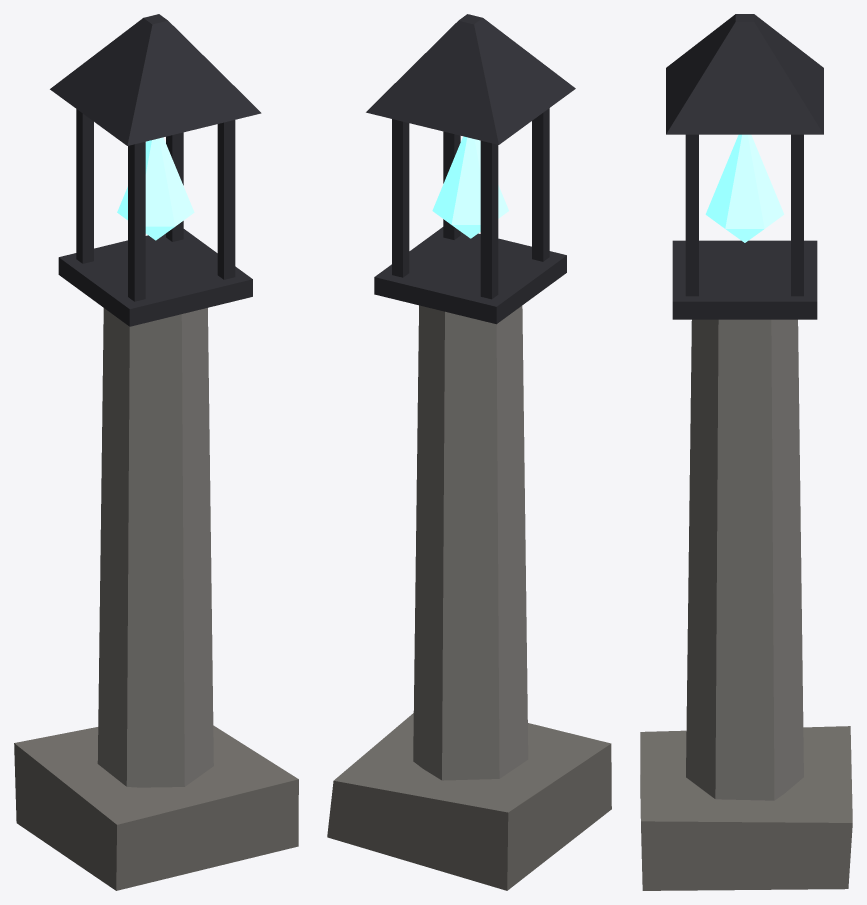
File: crystal_lamp.glb
The picture shows the model from 3 angles, left to right: view 1: azimuth 30°, elevation 25°; view 2: azimuth 150°, elevation 25°; view 3: azimuth 270°, elevation 25°; orthographic projection. The views are drawn at different scales.
Parts seen in each view (by area): view 1: crystal_lamp; view 2: crystal_lamp; view 3: crystal_lamp.
Part boxes in pixels (bbox=[...]): crystal_lamp: bbox=[14, 14, 298, 890]; crystal_lamp: bbox=[327, 14, 611, 890]; crystal_lamp: bbox=[640, 14, 852, 890].
Bounding box in the file's own units: 0.3302 × 1.4 × 0.3234.
